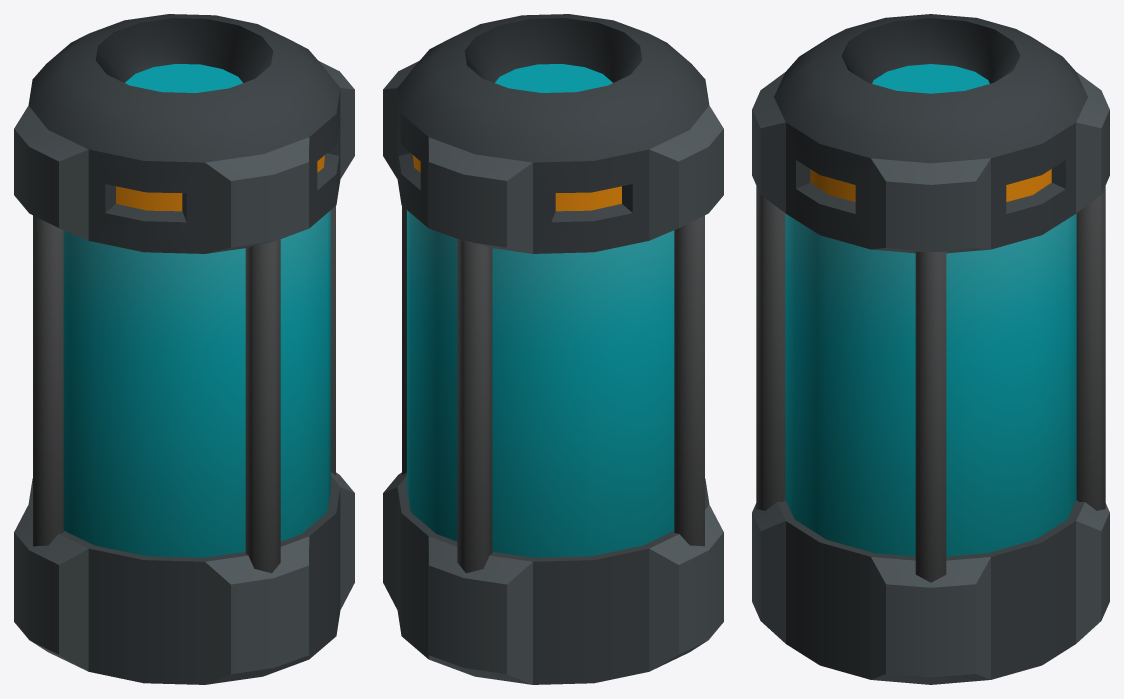
The model's file is obstacle_13_001.fbx.
3 renders of one model, left to right at view 1: azimuth 30°, elevation 25°; view 2: azimuth 150°, elevation 25°; view 3: azimuth 270°, elevation 25°, orthographic.
Parts seen in each view (by area): view 1: obstacle_13_001; view 2: obstacle_13_001; view 3: obstacle_13_001.
Boxes of the visible parts, box(x1,y1,x2,y2) form: obstacle_13_001: box(14, 14, 354, 684); obstacle_13_001: box(383, 14, 723, 684); obstacle_13_001: box(752, 14, 1109, 684).
Bounding box in the file's own units: 168 × 168 × 291.
